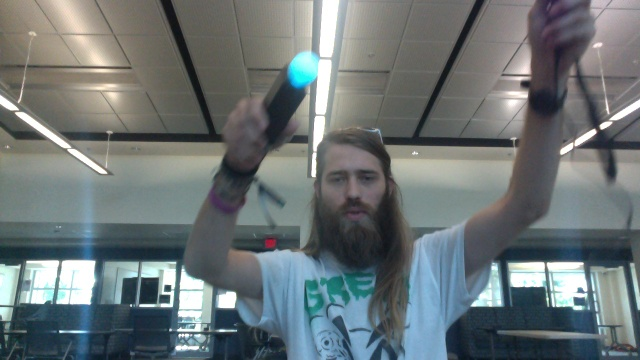wand: (289, 52, 320, 87)
